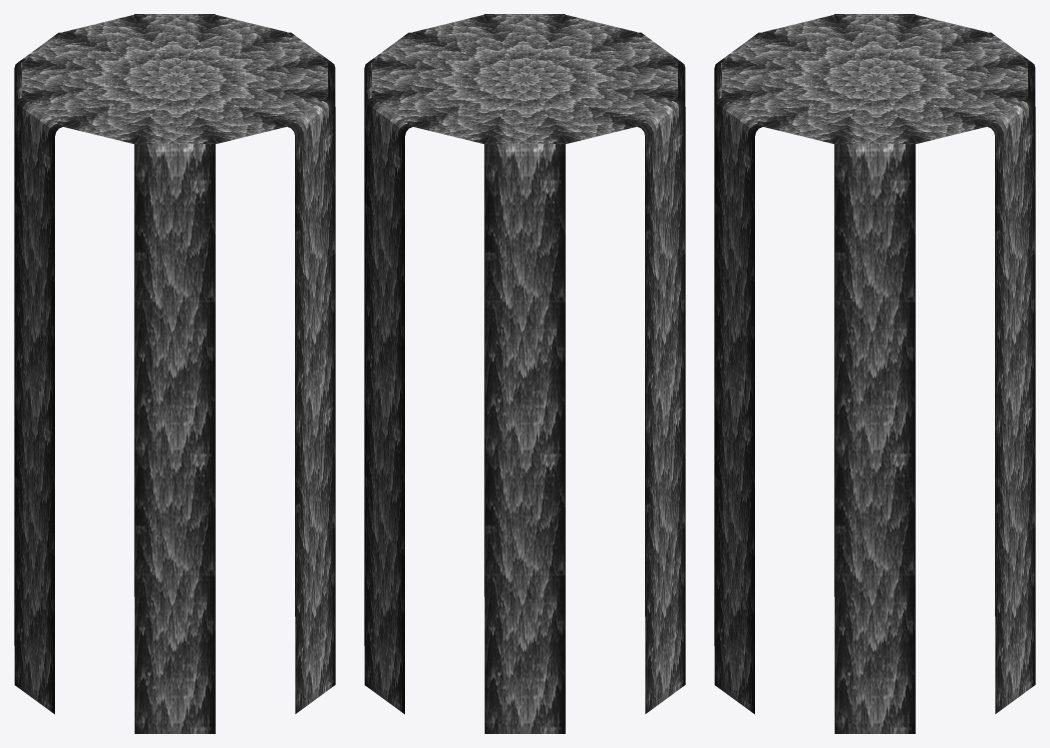
Rendered from water_mesh.fbx.
3 renders of one model, left to right at view 1: azimuth 30°, elevation 25°; view 2: azimuth 150°, elevation 25°; view 3: azimuth 270°, elevation 25°, orthographic.
Visible parts, largest first — view 1: water_mesh; view 2: water_mesh; view 3: water_mesh.
Part boxes in pixels (box(x1,y1,x2,y2)): water_mesh: box(14, 14, 335, 733); water_mesh: box(364, 14, 685, 733); water_mesh: box(714, 14, 1035, 733).
Size of the model in its own units: 10.54 by 21.02 by 10.44.
Materials: 1 (1 with a texture image).
